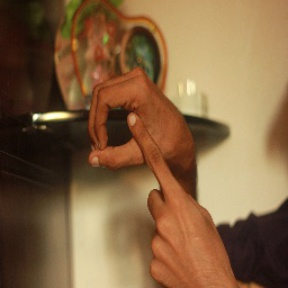Q: (81, 66, 203, 217)
